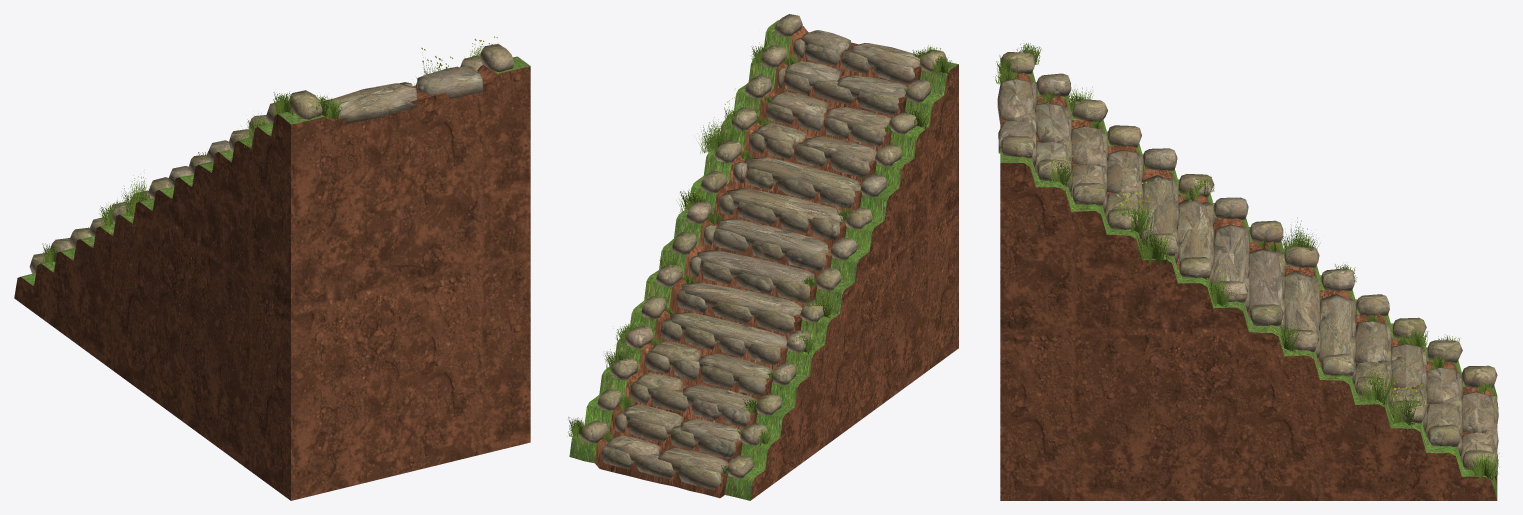
The model's file is stone-steps.glb.
3 renders of one model, left to right at view 1: azimuth 30°, elevation 25°; view 2: azimuth 150°, elevation 25°; view 3: azimuth 270°, elevation 25°, orthographic. The views are drawn at different scales.
Parts seen in each view (by area): view 1: stone_steps_soil, stone_steps_stone, stone_steps_grass, stone_steps_lawn; view 2: stone_steps_stone, stone_steps_soil, stone_steps_lawn, stone_steps_grass; view 3: stone_steps_soil, stone_steps_stone, stone_steps_grass, stone_steps_lawn.
Part boxes in pixels (x1,y1,x2,y2): stone_steps_soil: (14, 65, 530, 500); stone_steps_stone: (29, 43, 514, 274); stone_steps_grass: (42, 36, 497, 264); stone_steps_lawn: (21, 56, 530, 285); stone_steps_stone: (580, 14, 946, 489); stone_steps_soil: (595, 26, 958, 500); stone_steps_lawn: (569, 20, 958, 500); stone_steps_grass: (567, 42, 951, 475); stone_steps_soil: (1000, 73, 1497, 500); stone_steps_stone: (997, 52, 1498, 479); stone_steps_grass: (993, 43, 1499, 481); stone_steps_lawn: (1000, 58, 1497, 499).
Size of the model in its own units: 2.35 by 3.4 by 4.19.
4 materials, 4 textured.
